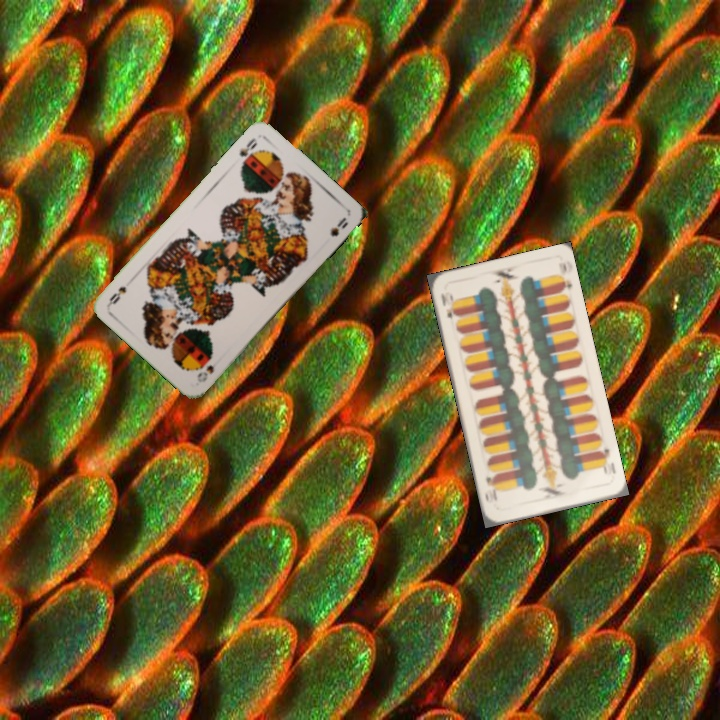E10: (437, 288, 459, 323), (594, 444, 612, 477)
SO: (193, 351, 216, 385), (235, 134, 260, 160)
